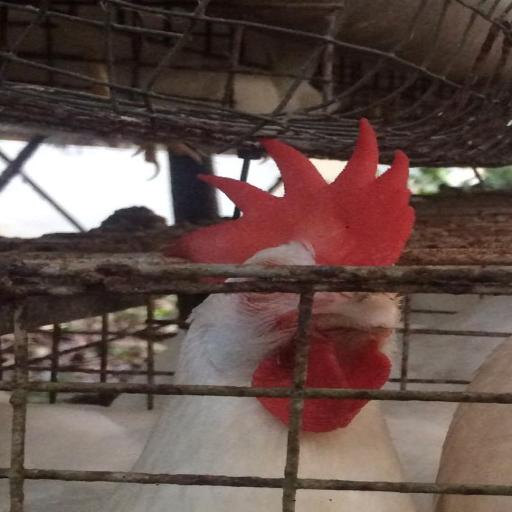healthy: (175, 150, 465, 316)
